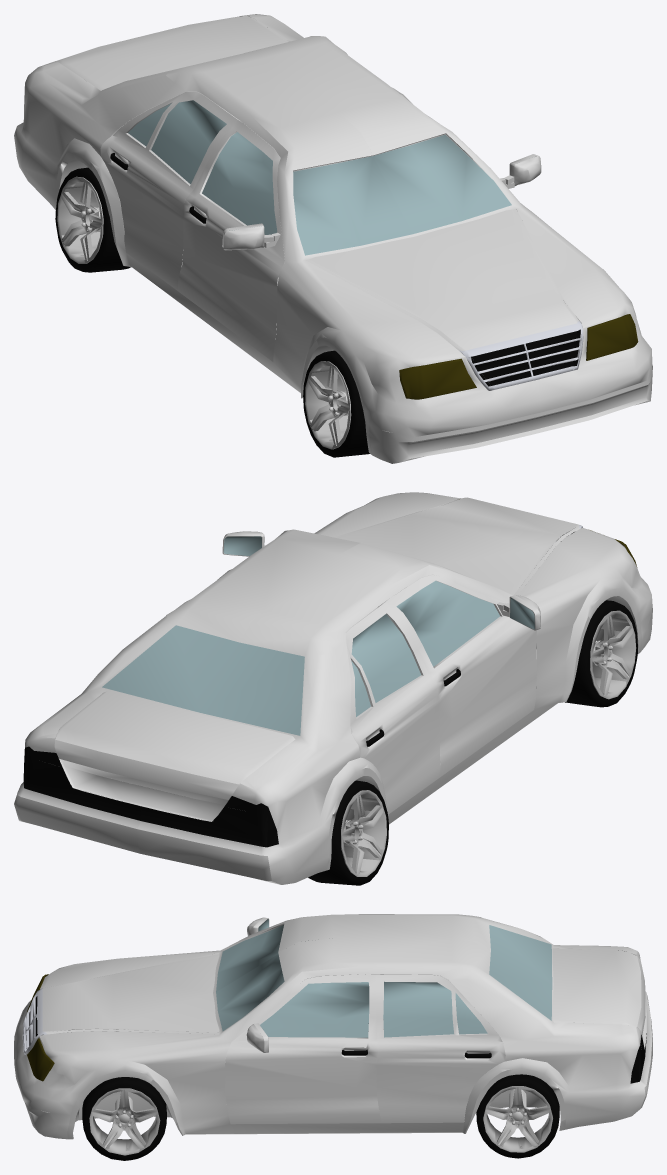
File: coche14.glb
The picture shows the model from 3 angles, top to bottom: view 1: azimuth 30°, elevation 25°; view 2: azimuth 150°, elevation 25°; view 3: azimuth 270°, elevation 25°; orthographic projection. The views are drawn at different scales.
Parts seen in each view (by area): view 1: coche14; view 2: coche14; view 3: coche14.
Boxes of the visible parts, x1,y1,x2,y2 form: coche14: (14,14,652,463); coche14: (14,492,652,885); coche14: (14,914,652,1160).
Bounding box in the file's own units: 2.15 × 1.39 × 4.74.
